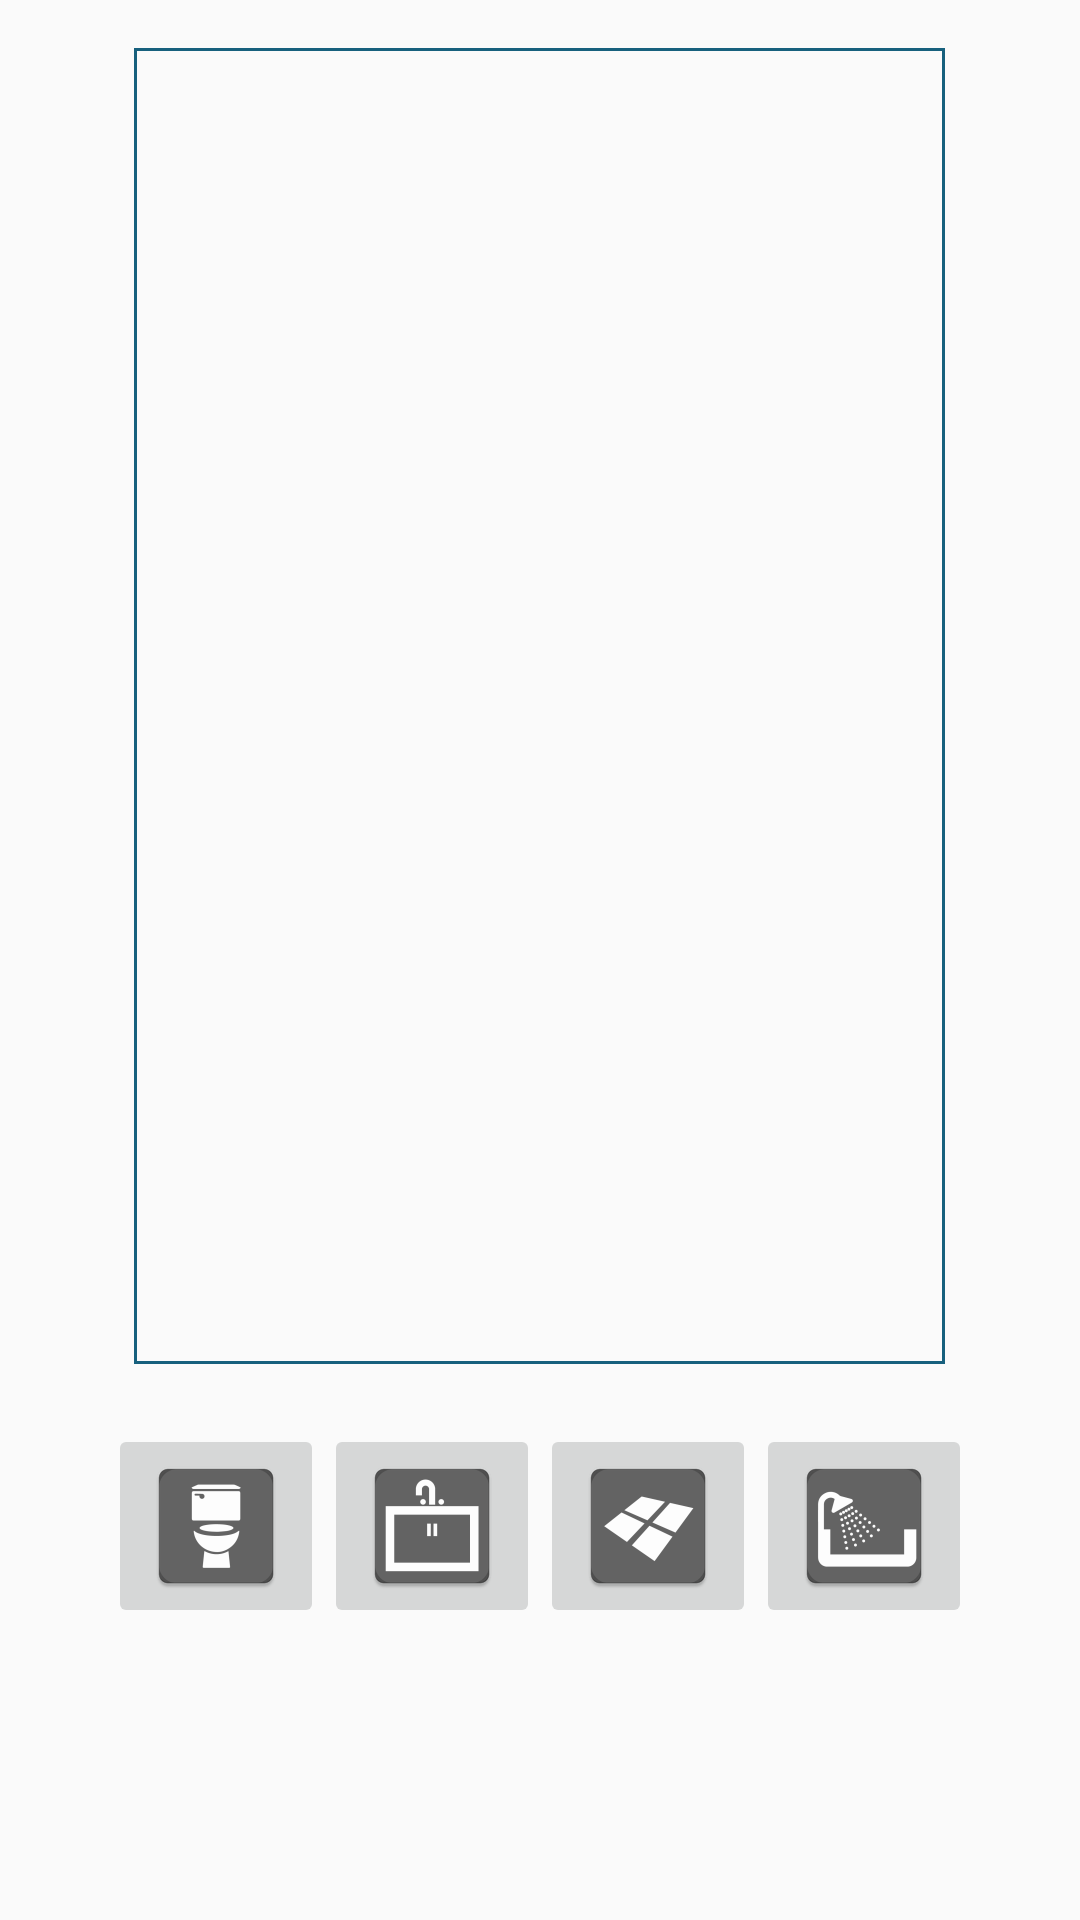

Named icons in this screenshot (1080x1920) and their bounding boxes, [left=x1, top=y1, right=x2, bottom=y2]:
select bathtub: [left=768, top=1442, right=960, bottom=1610]
select sink: [left=336, top=1442, right=528, bottom=1610]
select tile: [left=552, top=1442, right=744, bottom=1610]
select toilet: [left=120, top=1442, right=312, bottom=1610]
